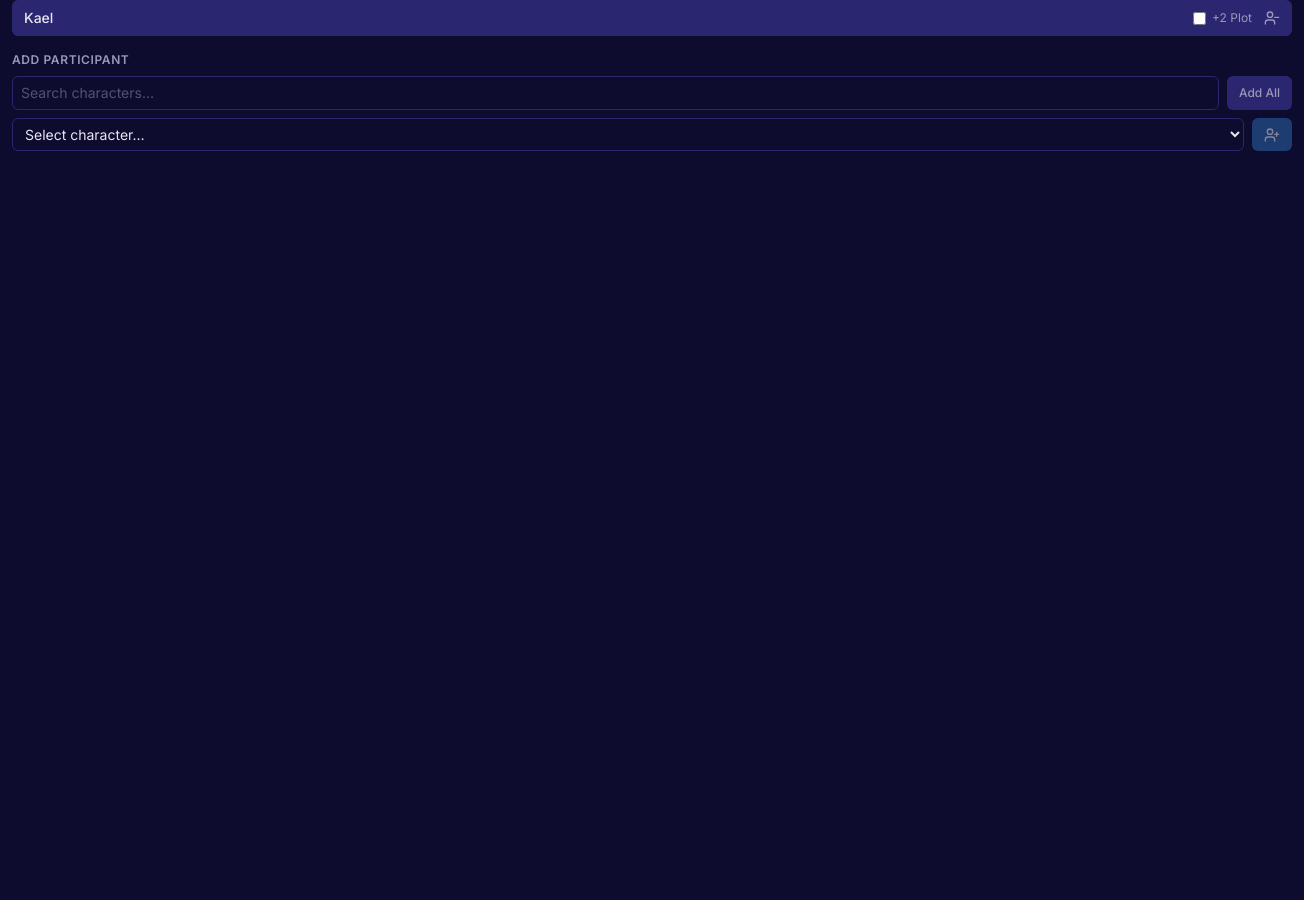
Scenario: ParticipantManagement: error handling › shows error toast when remove fails
Click the button named "remove kael from session" at x=1272, y=18, box 1264,10 -> 1280,26
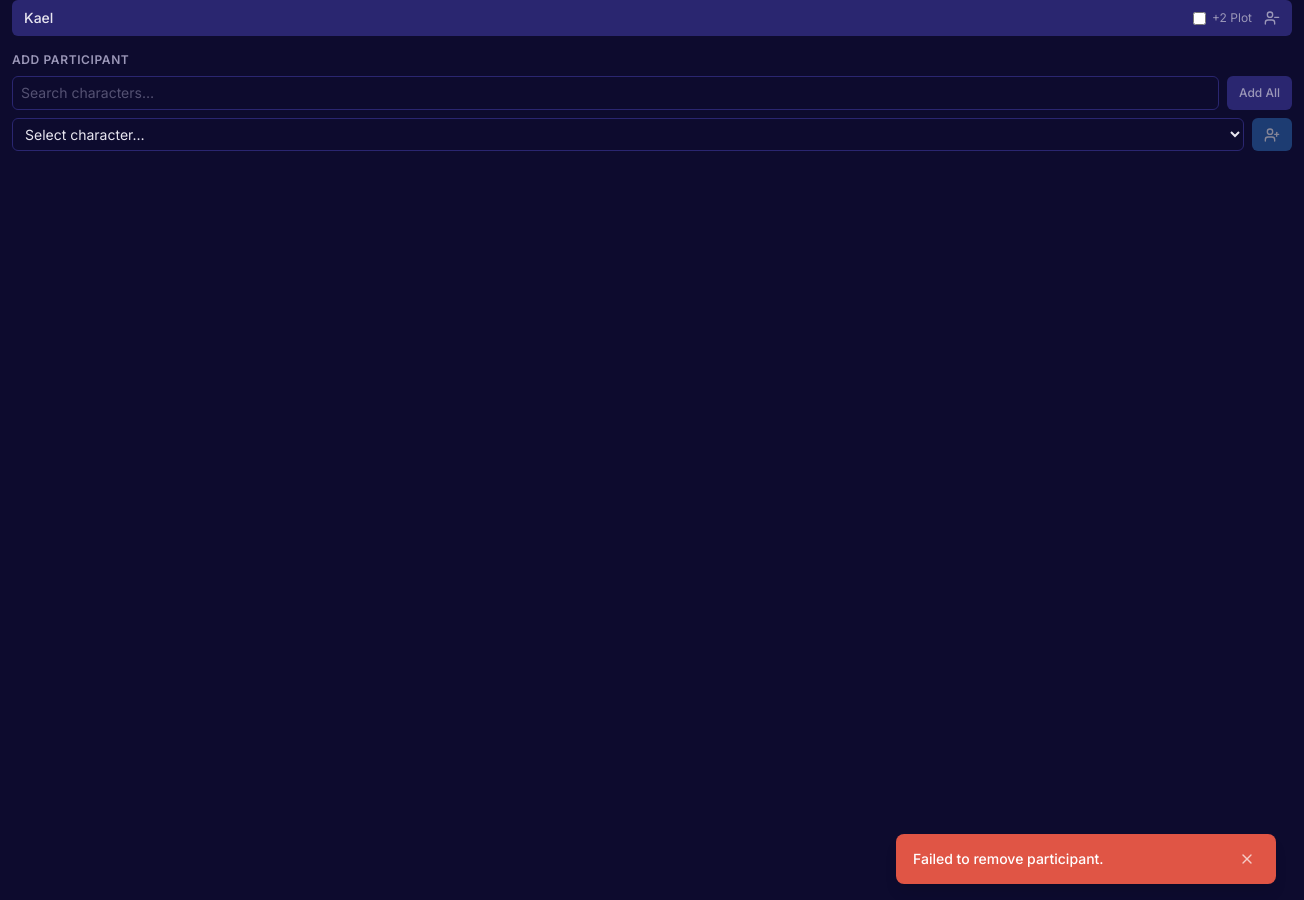
Now the text "Failed to remove participant." is shown, box 913,849 -> 1104,869
